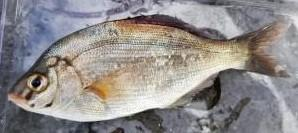fish: (9, 15, 290, 122)
